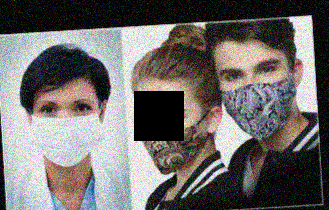with_mask: (218, 55, 295, 141), (31, 95, 101, 169), (137, 102, 204, 175)
